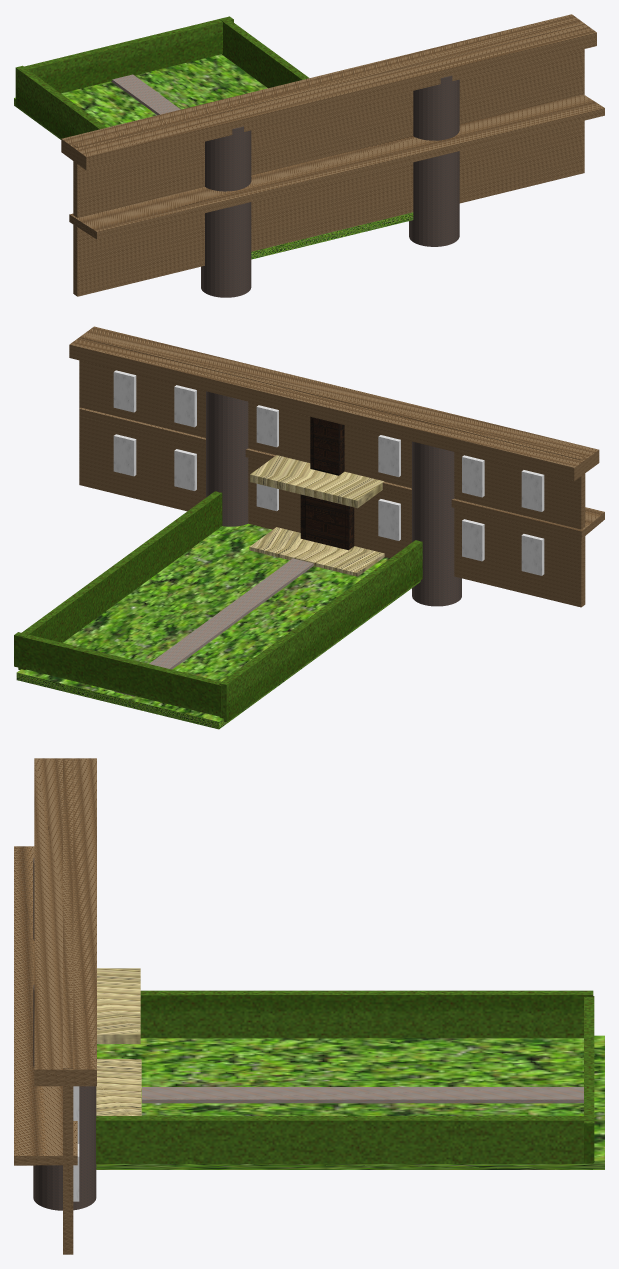
Rendered from FrontDoor.glb.
3 views of the same model, one above another, from view 1: azimuth 30°, elevation 25°; view 2: azimuth 150°, elevation 25°; view 3: azimuth 270°, elevation 25° (orthographic). The views are drawn at different scales.
Parts seen in each view (by area): view 1: Door; view 2: Door; view 3: Door.
Boxes of the visible parts, <box> form: Door: <box>14,14,604,297</box>; Door: <box>14,326,604,729</box>; Door: <box>14,758,604,1254</box>.
Size of what is drawn, in the model's own units: 141 by 46.42 by 113.
21 materials, 21 textured.
